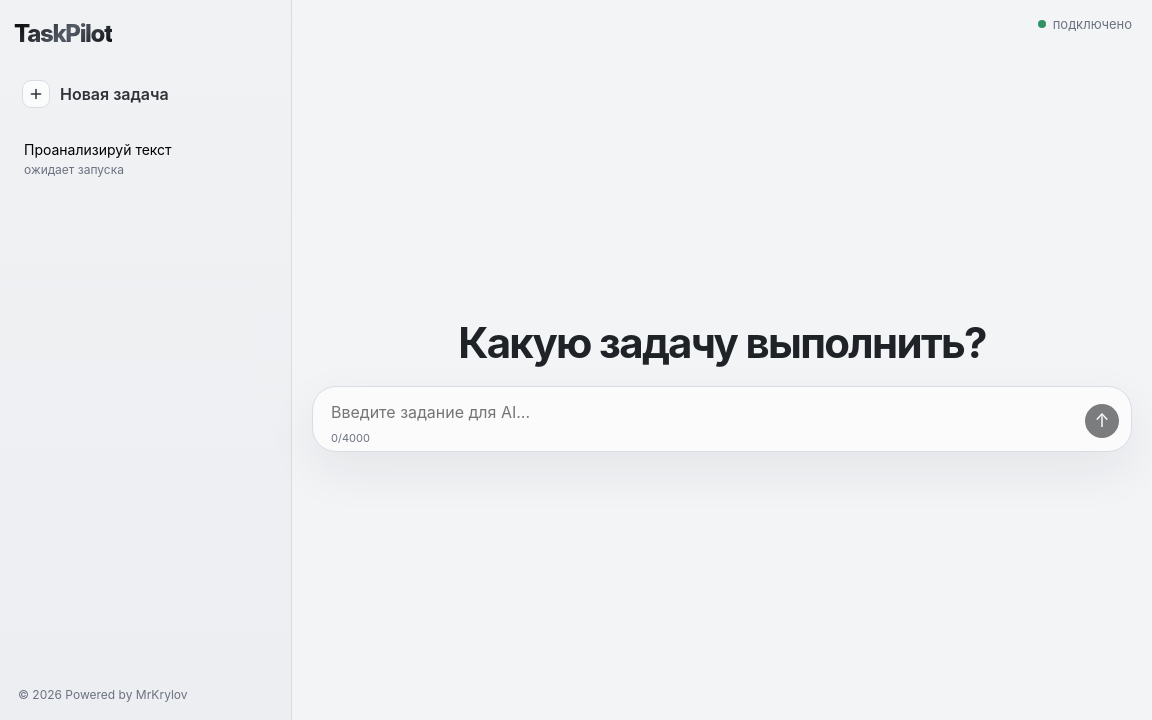
Test: AI Agent frontend › восстанавливает состояние после WebSocket reconnect через REST
The width and height of the screenshot is (1152, 720).
What coordinates should you click on to do the following:
click the text "Проанализируй текст"
I would click on:
 (98, 150)
Its box is [24, 141, 172, 158].
Wait 1000 ms
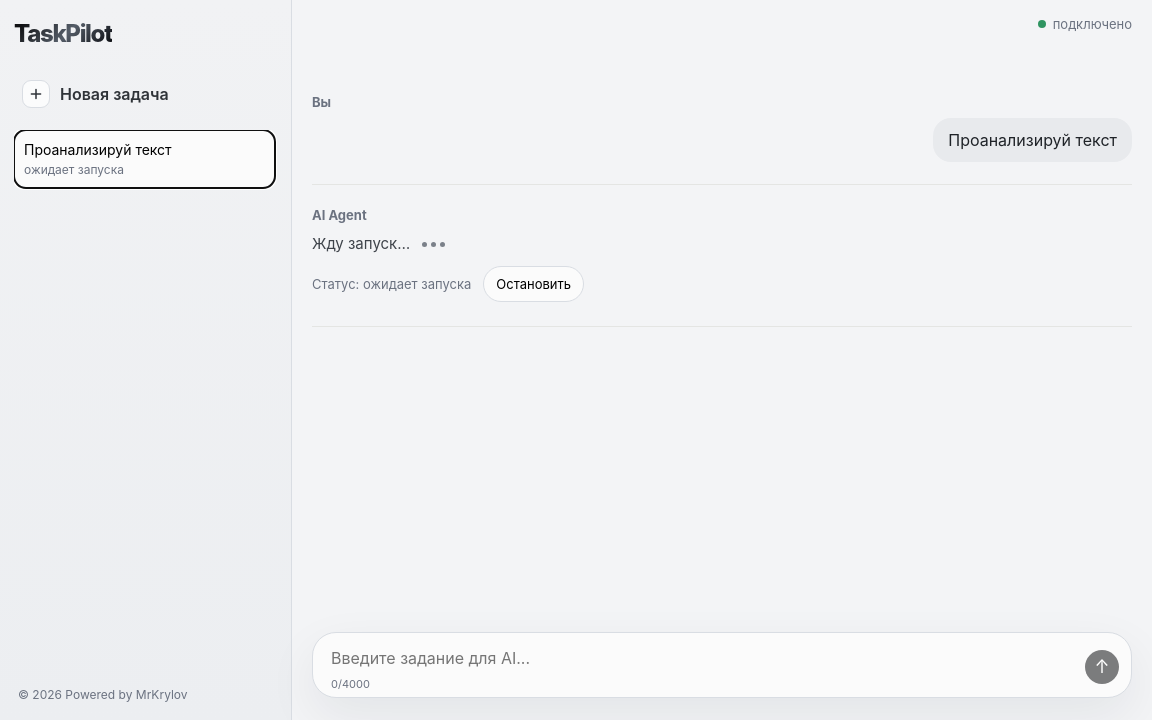
Expected: the text "Обрабатываю задачу…" is shown, [312, 233, 410, 256]
